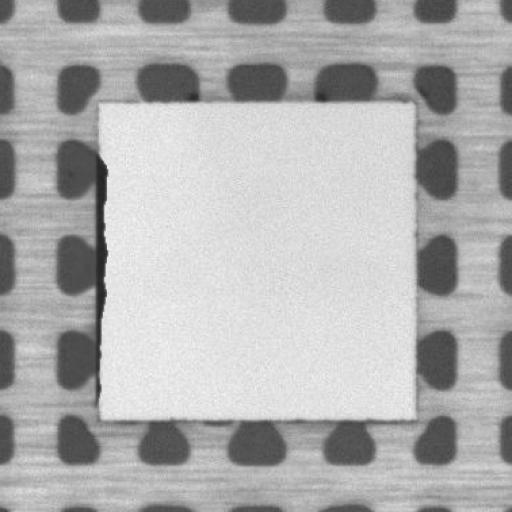DIE_BROKEN: (90, 150, 110, 409)
